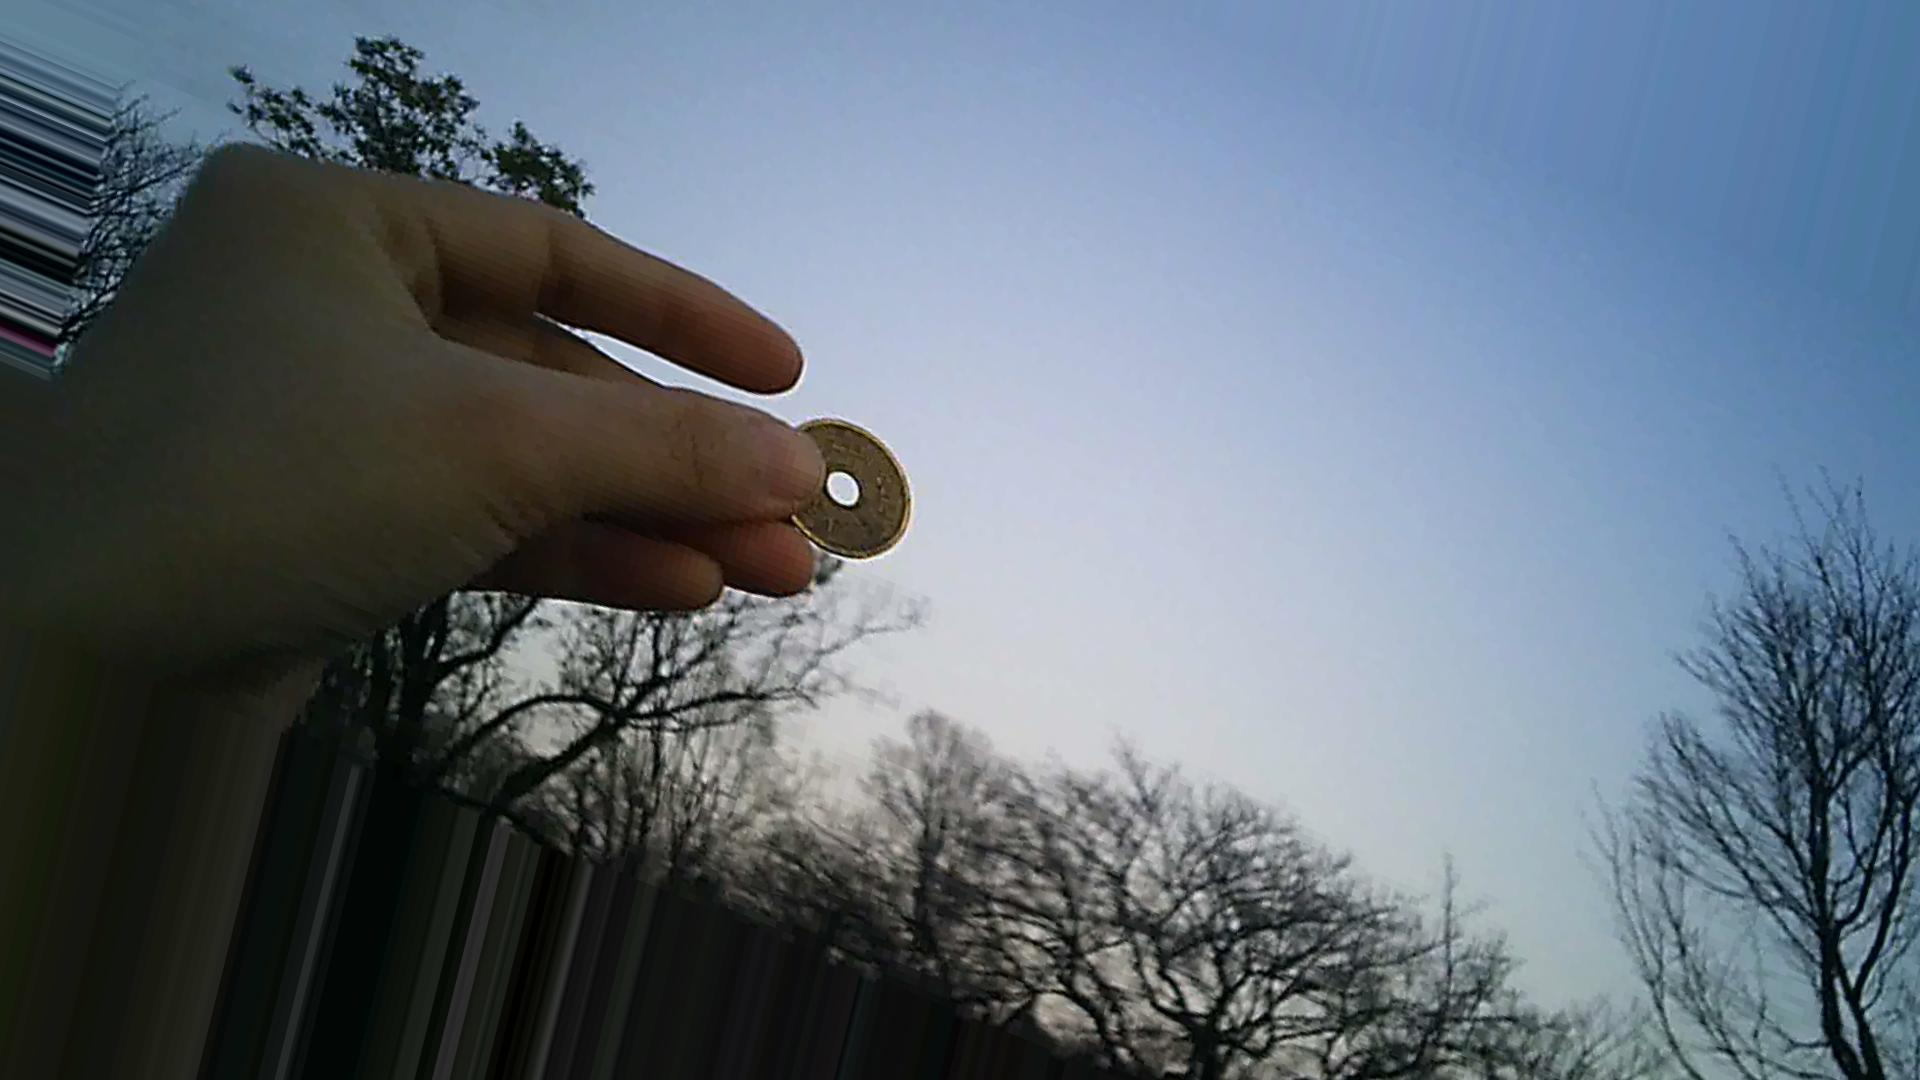5 Yen: (783, 396, 923, 562)
